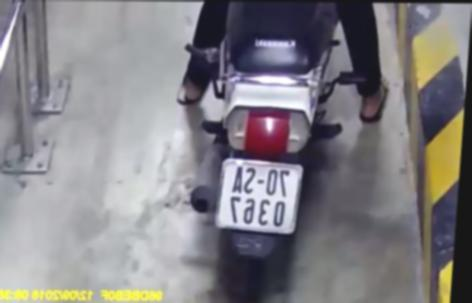License_Plate: (208, 158, 309, 236)
